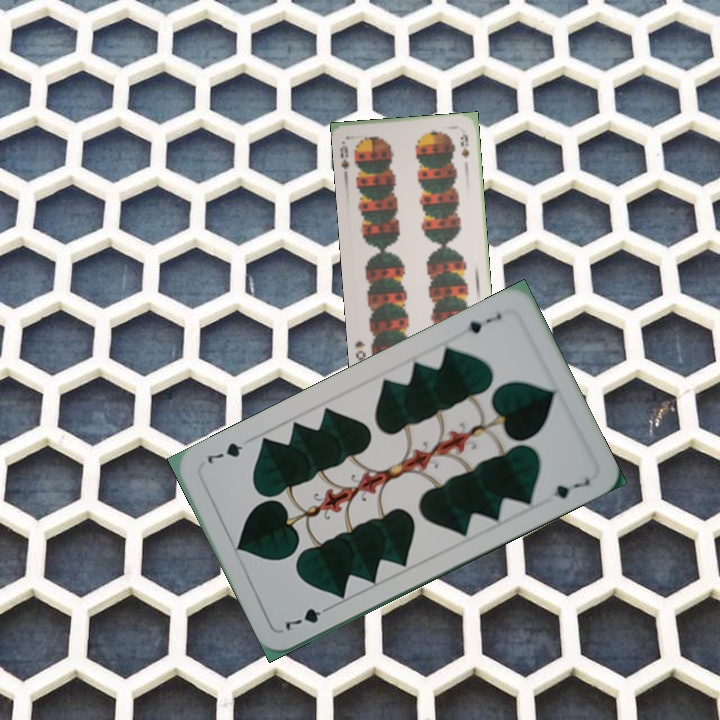G7: (281, 601, 335, 633), (456, 309, 504, 337)
S8: (336, 142, 351, 172)
